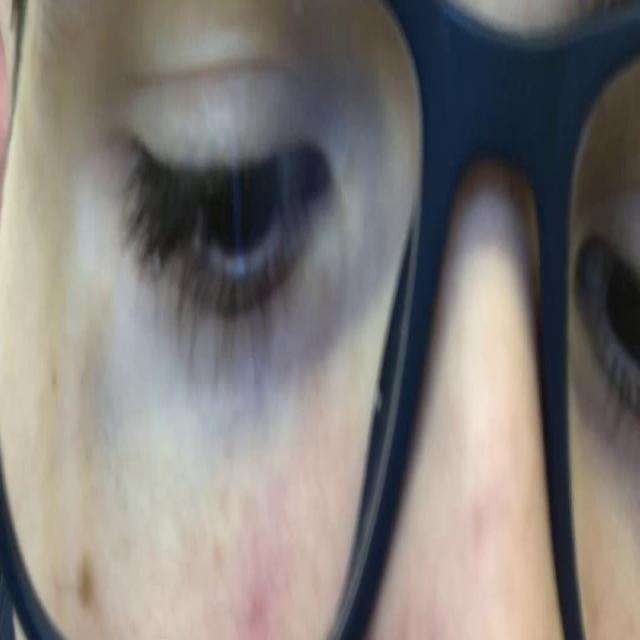eye: (112, 62, 350, 388)
gaze: (198, 120, 285, 308)
